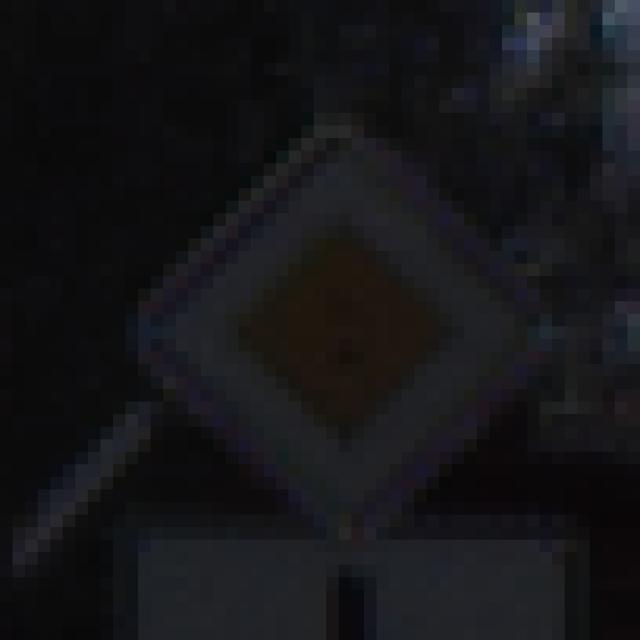Main Road: (77, 77, 579, 579)
